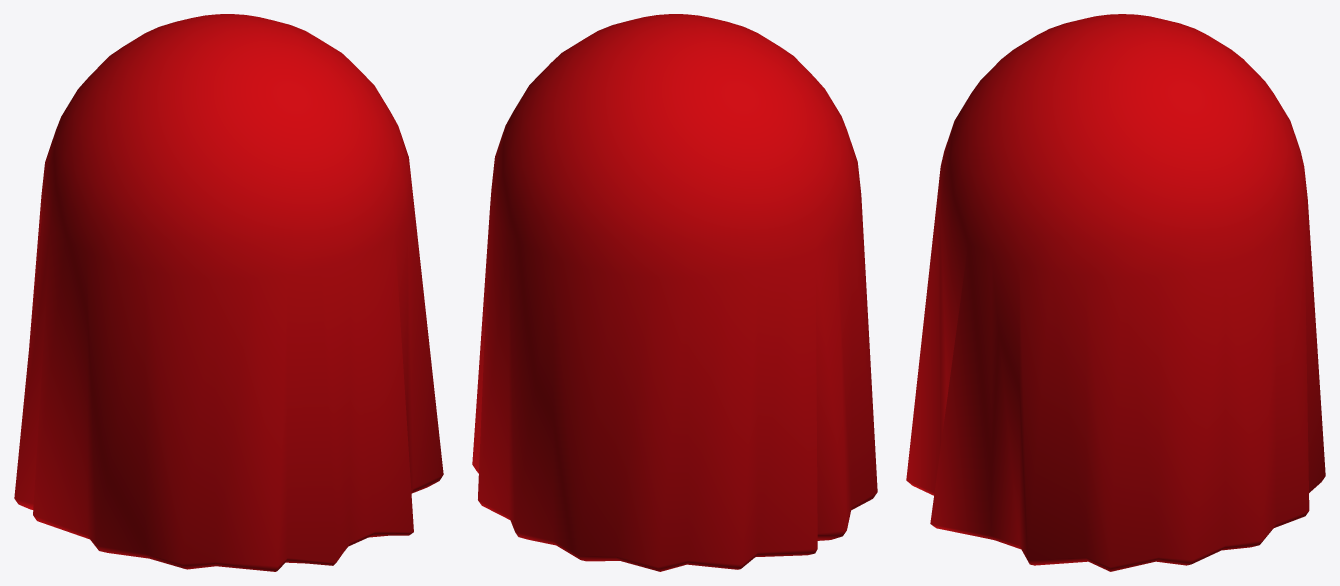
Rendered from Ghost0.obj.
3 views of the same model, side by side, from view 1: azimuth 30°, elevation 25°; view 2: azimuth 150°, elevation 25°; view 3: azimuth 270°, elevation 25° (orthographic).
Parts seen in each view (by area): view 1: Sphere_Sphere.001; view 2: Sphere_Sphere.001; view 3: Sphere_Sphere.001.
Boxes of the visible parts, x1=… form: Sphere_Sphere.001: x1=14, y1=14, x2=443, y2=571; Sphere_Sphere.001: x1=472, y1=14, x2=877, y2=571; Sphere_Sphere.001: x1=906, y1=14, x2=1325, y2=571.
Bounding box in the file's own units: 2.27 × 2.84 × 2.26.
